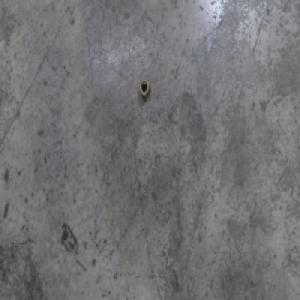Nut: (138, 77, 151, 101)
